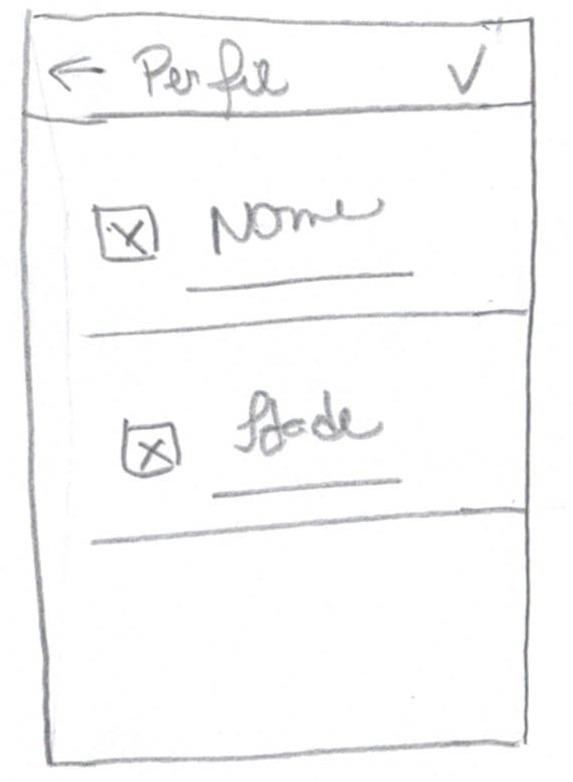Button: (46, 55, 106, 94), (444, 44, 488, 97)
CheckBox: (114, 387, 386, 481), (91, 196, 389, 267)
Label: (88, 476, 525, 550), (83, 271, 528, 339), (129, 39, 289, 98)
Screen: (22, 10, 536, 766)
